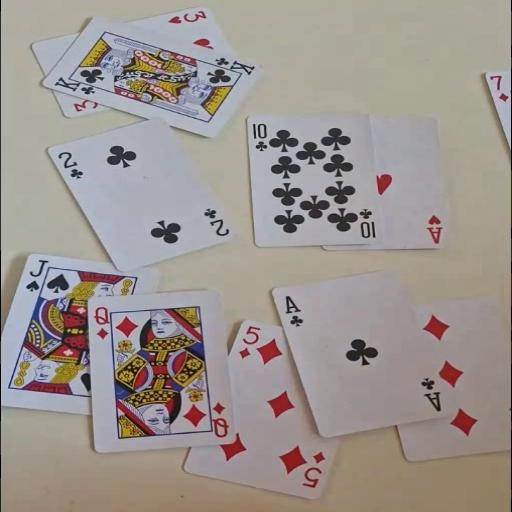10: (208, 400, 230, 439), (358, 207, 376, 239), (250, 121, 268, 152)
2: (200, 206, 230, 237), (55, 150, 85, 180)
3: (165, 8, 208, 25)
5: (300, 449, 328, 490), (236, 323, 263, 360)
7: (486, 73, 510, 103)
A: (418, 376, 444, 412), (282, 294, 306, 328), (424, 213, 444, 245)
J: (22, 258, 49, 292)
K: (52, 74, 101, 96), (212, 56, 257, 76)
Q: (208, 400, 230, 438), (92, 305, 111, 340)
